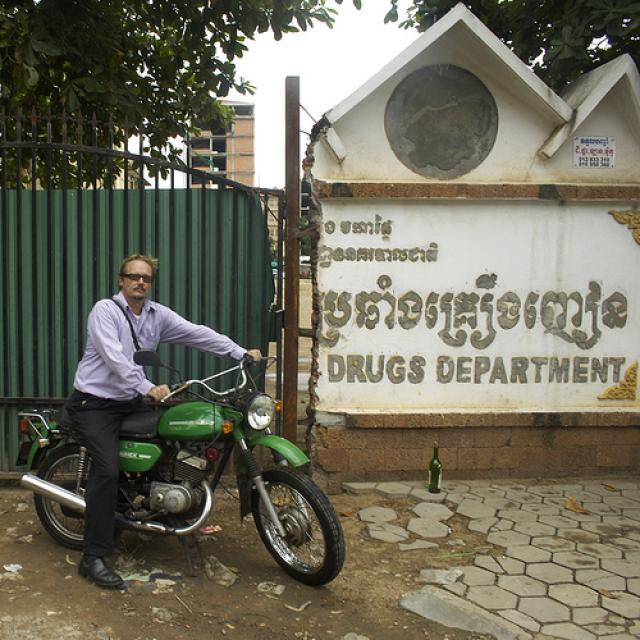motor: (17, 348, 347, 585)
